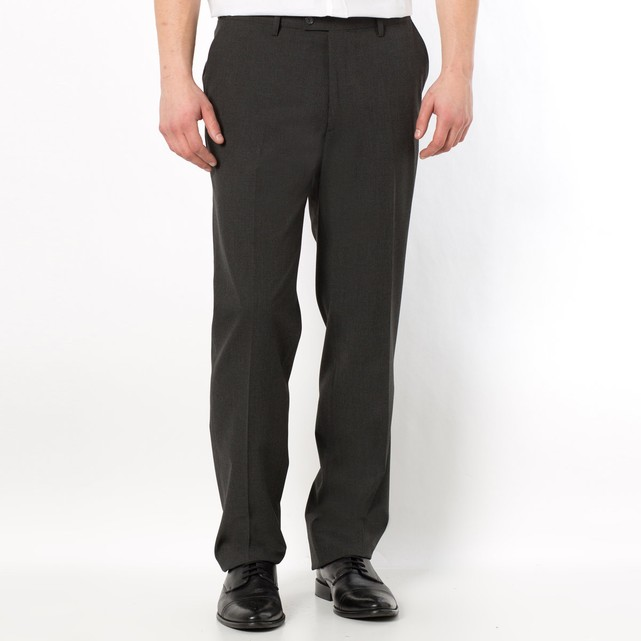feet: (182, 459, 411, 634)
